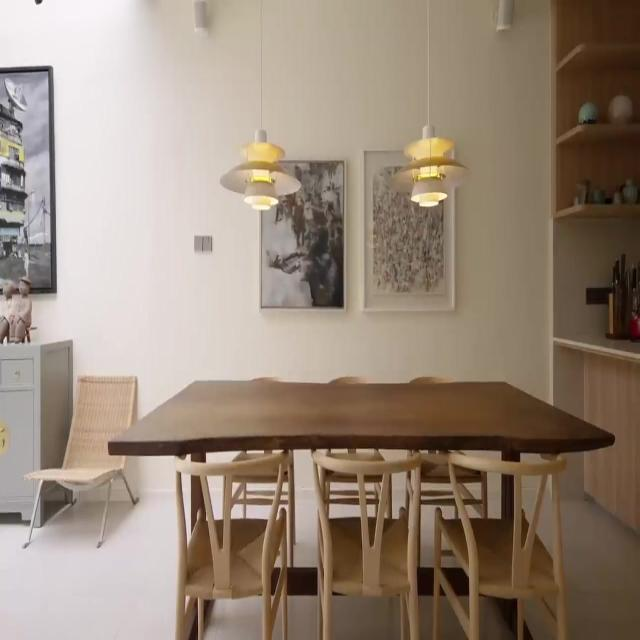obstacle: (108, 375, 615, 638), (432, 452, 568, 639), (174, 452, 288, 639), (310, 449, 422, 639), (21, 374, 139, 550), (0, 339, 73, 525), (317, 375, 387, 522)
